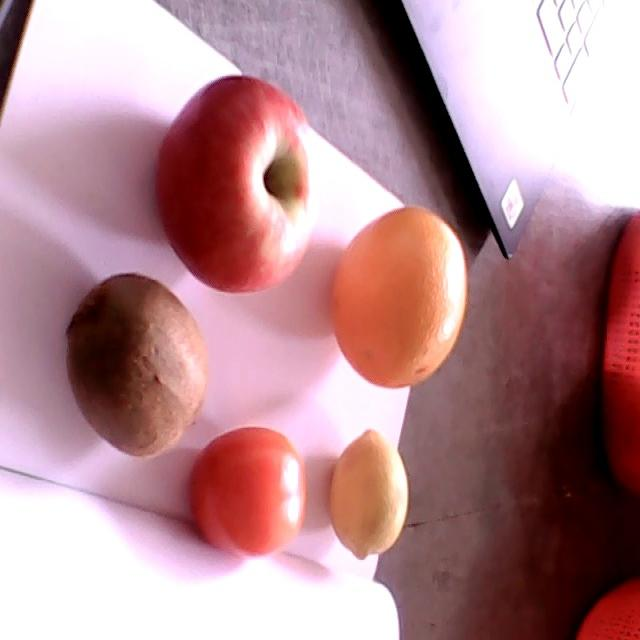apple: (156, 75, 320, 292)
kiwi: (65, 274, 212, 458)
lemon: (329, 429, 410, 560)
orange: (330, 207, 467, 386)
tomato: (191, 427, 306, 552)
